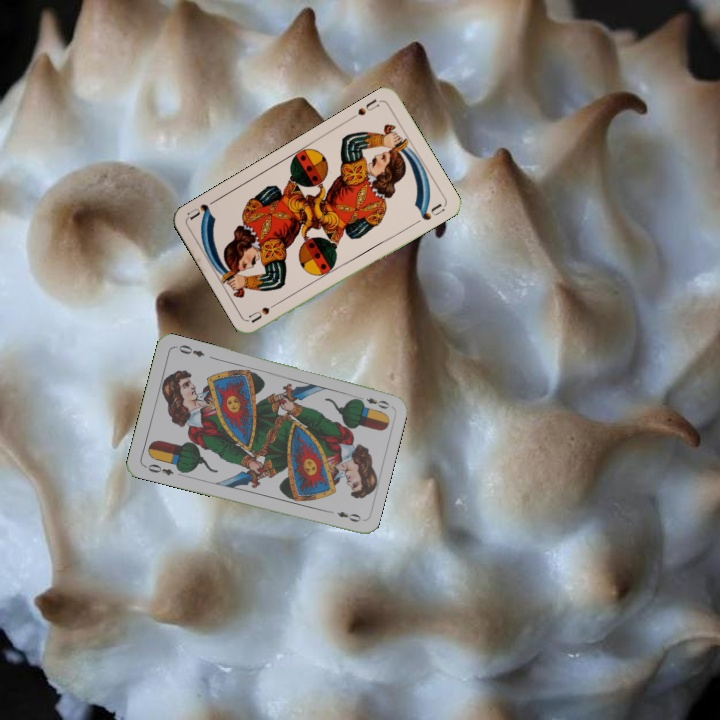EO: (353, 392, 392, 411), (140, 460, 176, 478)
SU: (245, 297, 284, 325), (354, 95, 382, 118)
